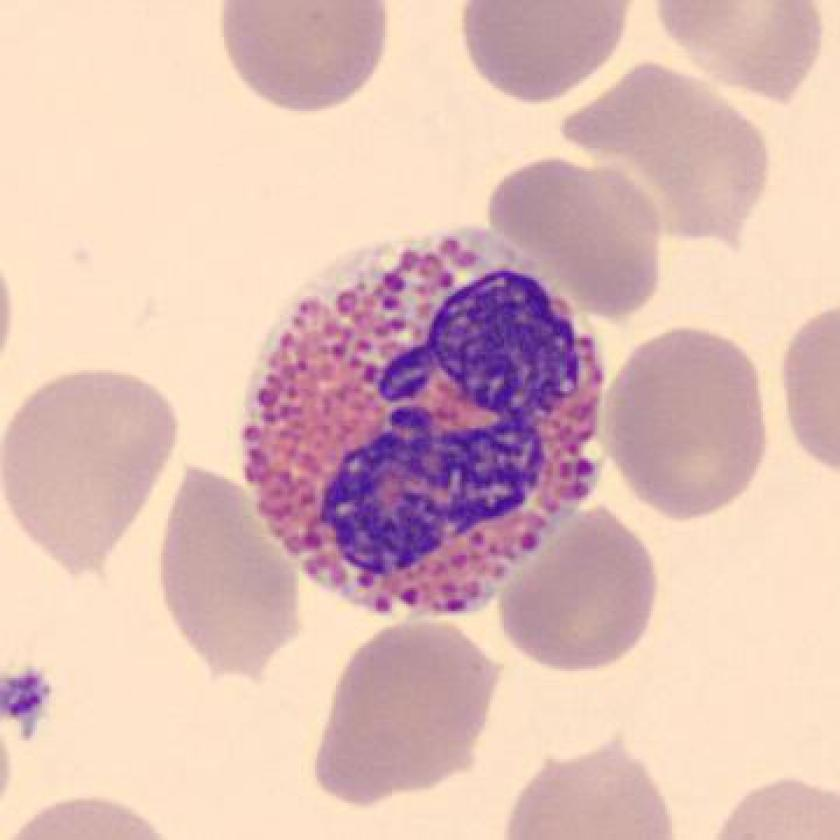eosinophil: (232, 219, 624, 633)
